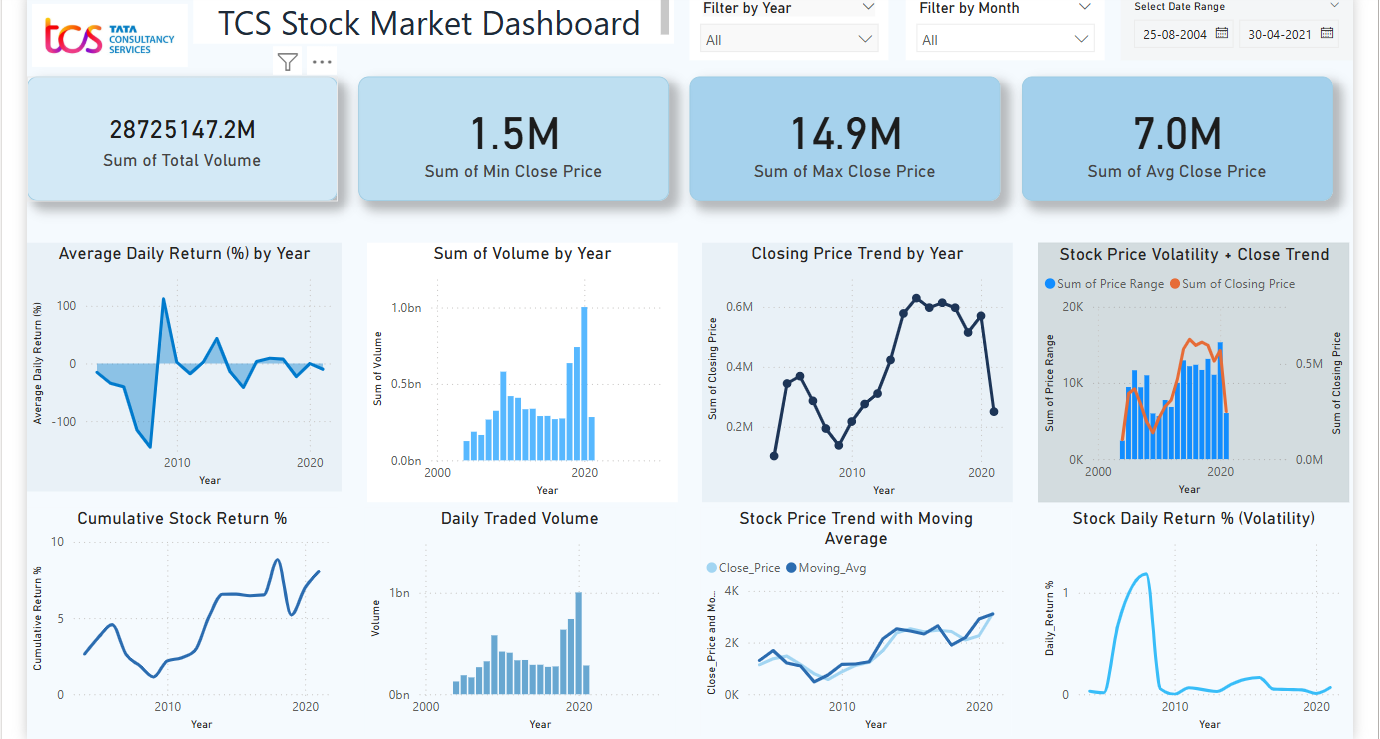

The page's visual inventory and layout, read from the dashboard file:
{"tool":"powerbi","page":{"name":"Page 1","canvas":[1280,720],"ordinal":0},"visuals":[{"type":"textbox","box":[160,0,464,48],"z":0,"group":"g1"},{"type":"card","fields":{"Values":["Sum(TCS.Avg Close)"]},"box":[960,80,300,120],"z":0},{"type":"image","box":[0,0,160,80],"z":1000,"group":"g1"},{"type":"card","fields":{"Values":["Sum(TCS.Max Close Price)"]},"box":[640,80,300,120],"z":1000},{"type":"card","fields":{"Values":["Sum(TCS.Min Close Price)"]},"box":[320,80,300,120],"z":2000},{"type":"card","fields":{"Values":["Sum(TCS.Total Volume)"]},"box":[0,80,300,120],"z":3000},{"type":"lineChart","title":"Closing Price Trend by Year","fields":{"Y":["Sum(TCS.Closing Price)"],"Category":["TCS.Date.Variation.Date Hierarchy.Year"]},"box":[652,240,300,250],"z":4000},{"type":"clusteredColumnChart","fields":{"Category":["TCS.Date.Variation.Date Hierarchy.Year"],"Y":["Sum(TCS.Volume)"]},"box":[328,240,300,250],"z":5000},{"type":"areaChart","fields":{"Category":["TCS.Date.Variation.Date Hierarchy.Year"],"Y":["Sum(TCS.Daily Return (%))"]},"box":[0,240,304,240],"z":6000},{"type":"lineClusteredColumnComboChart","title":"Stock Price Volatility + Close Trend","fields":{"Category":["TCS.Date.Variation.Date Hierarchy.Year"],"Y":["Sum(TCS.Price Range)"],"Y2":["Sum(TCS.Closing Price)"]},"box":[976,240,300,250],"z":7000},{"type":"lineChart","title":"Stock Price Trend with Moving Average","fields":{"Category":["TCS.Date.Variation.Date Hierarchy.Year"],"Y":["TCS.Close_Price","TCS.Moving_Avg"]},"box":[650.7,496,300,220],"z":8000},{"type":"lineChart","title":"Stock Daily Return % (Volatility)","fields":{"Category":["TCS.Date.Variation.Date Hierarchy.Year"],"Y":["TCS.Daily_Return %"]},"box":[976,496,300,220],"z":9000},{"type":"clusteredColumnChart","title":" Daily Traded Volume","fields":{"Category":["TCS.Date.Variation.Date Hierarchy.Year"],"Y":["Sum(TCS.Volume)"]},"box":[325.3,496,300,220],"z":10000},{"type":"lineChart","title":"Cumulative Stock Return %","fields":{"Category":["TCS.Date.Variation.Date Hierarchy.Year"],"Y":["TCS.Cumulative Return %"]},"box":[0,496,300,220],"z":11000},{"type":"slicer","fields":{"Values":["TCS.Year"]},"box":[640,0,192,64],"z":12000},{"type":"slicer","fields":{"Values":["TCS.Date"]},"box":[1056,0,224,64],"z":13000},{"type":"slicer","fields":{"Values":["TCS.MonthName"]},"box":[848,0,192,64],"z":14000},{"type":"group","id":"g1","title":"Group 1","box":[0,0,624,80],"z":15000}]}

Visuals, with their boxes on the page's 1280x720 design canvas (x1, y1, x2, y2). These are canvas units, not pixel positions in the 1380x739 screenshot, which may show the page scaled, cropped or inside an application window:
textbox: {"x1": 160, "y1": 0, "x2": 624, "y2": 48}
card - Sum(TCS.Avg Close): {"x1": 960, "y1": 80, "x2": 1260, "y2": 200}
image: {"x1": 0, "y1": 0, "x2": 160, "y2": 80}
card - Sum(TCS.Max Close Price): {"x1": 640, "y1": 80, "x2": 940, "y2": 200}
card - Sum(TCS.Min Close Price): {"x1": 320, "y1": 80, "x2": 620, "y2": 200}
card - Sum(TCS.Total Volume): {"x1": 0, "y1": 80, "x2": 300, "y2": 200}
"Closing Price Trend by Year" lineChart: {"x1": 652, "y1": 240, "x2": 952, "y2": 490}
clusteredColumnChart - TCS.Date.Variation.Date Hierarchy.Year x Sum(TCS.Volume): {"x1": 328, "y1": 240, "x2": 628, "y2": 490}
areaChart - TCS.Date.Variation.Date Hierarchy.Year x Sum(TCS.Daily Return (%)): {"x1": 0, "y1": 240, "x2": 304, "y2": 480}
"Stock Price Volatility + Close Trend" lineClusteredColumnComboChart: {"x1": 976, "y1": 240, "x2": 1276, "y2": 490}
"Stock Price Trend with Moving Average" lineChart: {"x1": 651, "y1": 496, "x2": 951, "y2": 716}
"Stock Daily Return % (Volatility)" lineChart: {"x1": 976, "y1": 496, "x2": 1276, "y2": 716}
" Daily Traded Volume" clusteredColumnChart: {"x1": 325, "y1": 496, "x2": 625, "y2": 716}
"Cumulative Stock Return %" lineChart: {"x1": 0, "y1": 496, "x2": 300, "y2": 716}
slicer - TCS.Year: {"x1": 640, "y1": 0, "x2": 832, "y2": 64}
slicer - TCS.Date: {"x1": 1056, "y1": 0, "x2": 1280, "y2": 64}
slicer - TCS.MonthName: {"x1": 848, "y1": 0, "x2": 1040, "y2": 64}
"Group 1" group: {"x1": 0, "y1": 0, "x2": 624, "y2": 80}
